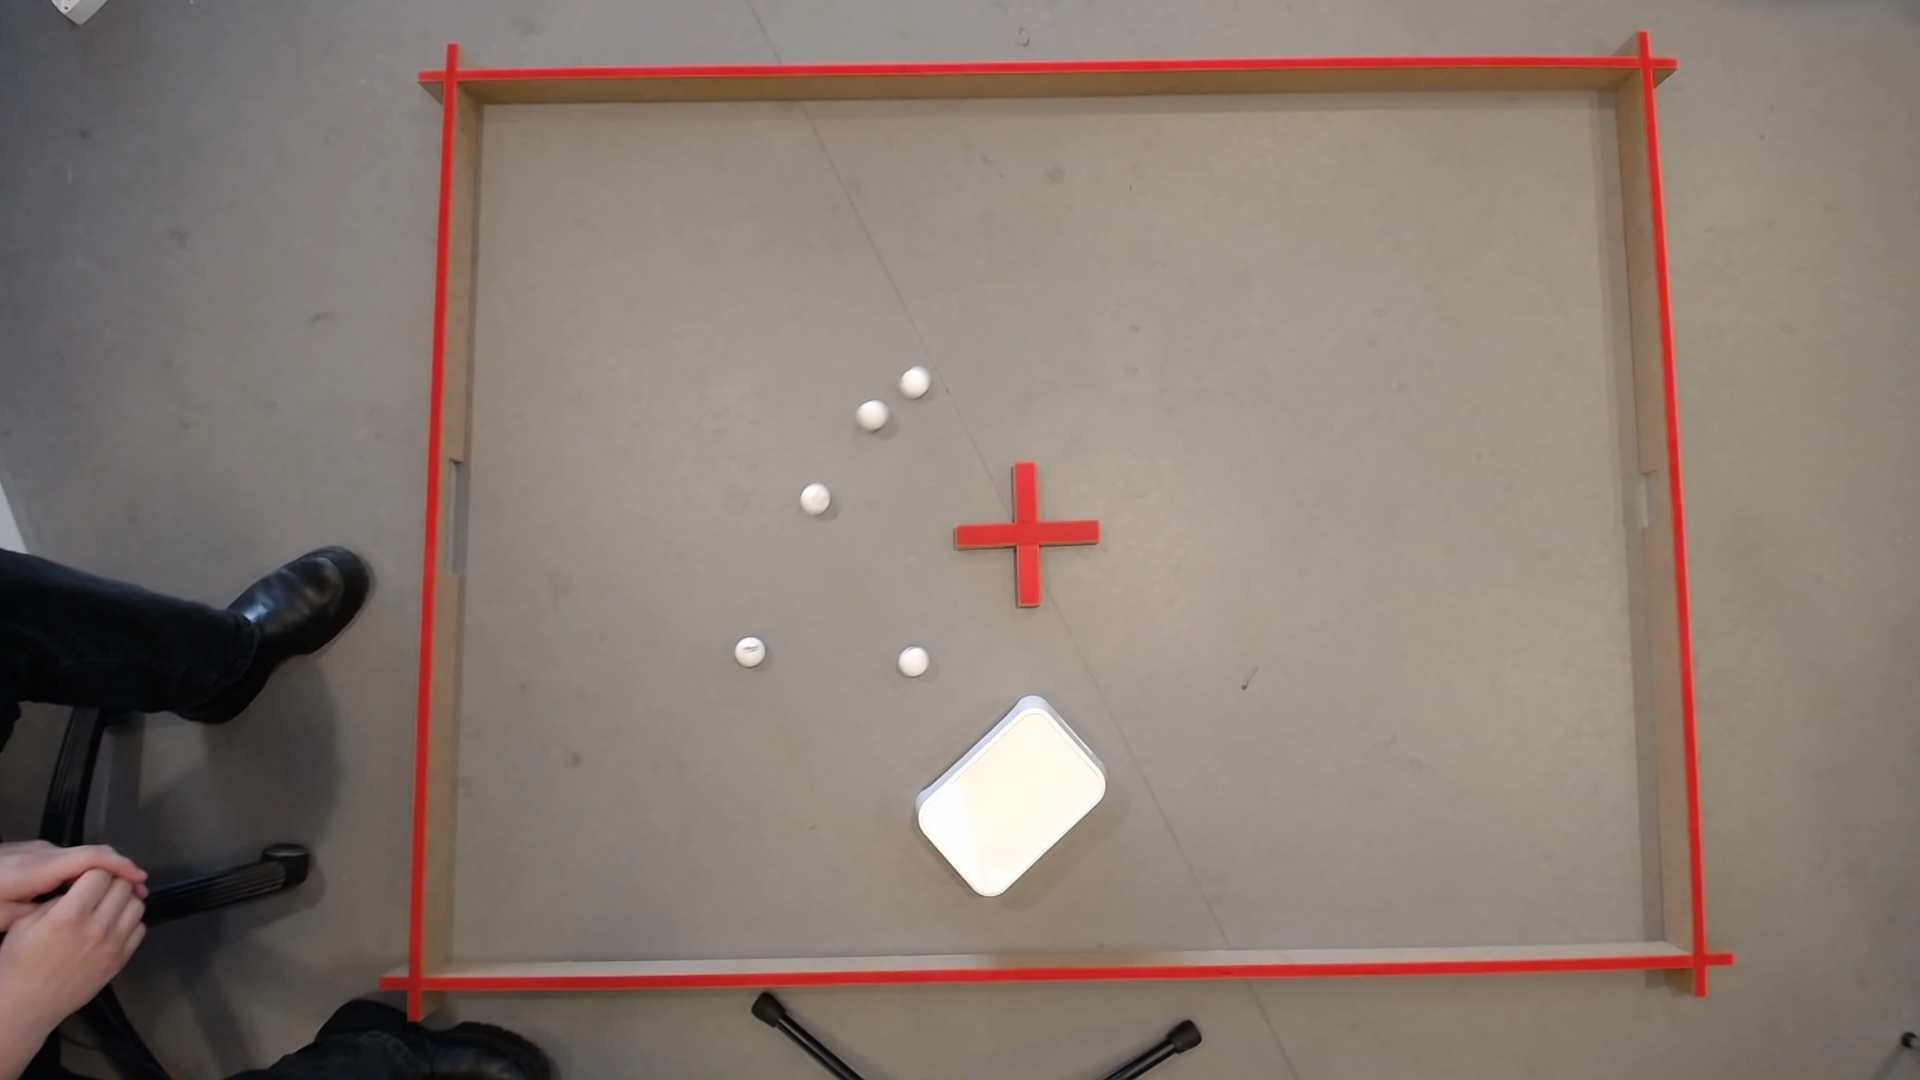balls: (899, 687, 1120, 905), (46, 868, 99, 923), (897, 361, 934, 398), (895, 641, 931, 678), (796, 479, 832, 514), (855, 394, 887, 427), (735, 636, 762, 661)
car: (50, 848, 87, 872)
